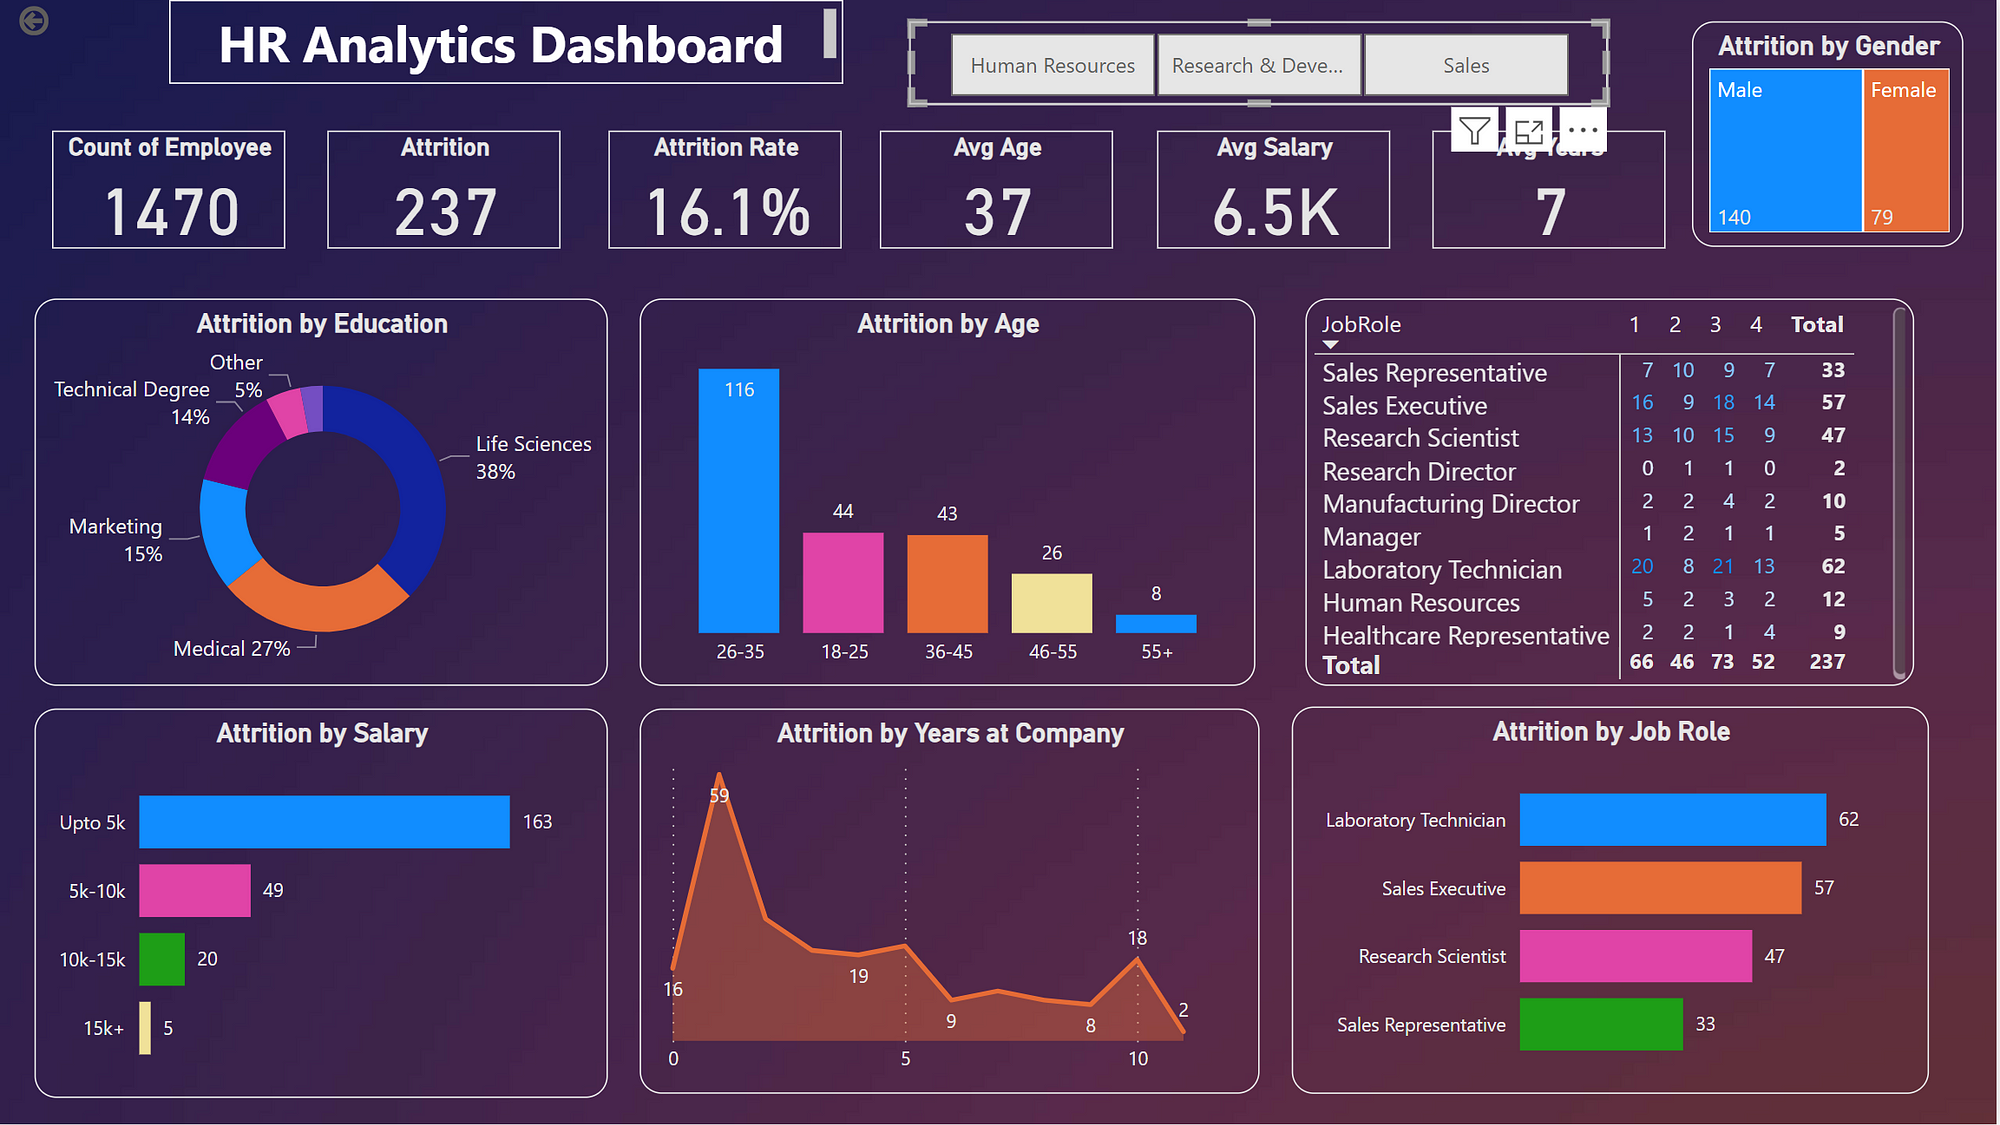

This screenshot's page, from the dashboard's own definition file:
{"tool":"powerbi","page":{"name":"Page 1","canvas":[1280,720],"ordinal":0},"visuals":[{"type":"card","title":"Count of Employee","fields":{"Values":["CountNonNull(HR_Analytics.EmpID)"]},"box":[35.3,84,149.5,75.6],"z":0},{"type":"card","title":"Attrition","fields":{"Values":["Sum(HR_Analytics.AttritionCount)"]},"box":[211.7,84,149.5,75.6],"z":1000},{"type":"card","title":"Attrition Rate","fields":{"Values":["HR_Analytics.AttritionRate"]},"box":[391.4,84,149.5,75.6],"z":2000},{"type":"card","title":"Avg Age","fields":{"Values":["Avg(HR_Analytics.Age)"]},"box":[564.4,84,149.5,75.6],"z":3000},{"type":"actionButton","box":[10.1,0,100.8,26.9],"z":4000},{"type":"card","title":"Avg Salary","fields":{"Values":["Avg(HR_Analytics.MonthlyIncome)"]},"box":[742.5,84,149.5,75.6],"z":5000},{"type":"card","title":"Avg Years","fields":{"Values":["Avg(HR_Analytics.YearsAtCompany)"]},"box":[918.8,84,149.5,75.6],"z":6000},{"type":"donutChart","title":"Attrition by Education","fields":{"Y":["Sum(HR_Analytics.AttritionCount)"],"Category":["HR_Analytics.EducationField","HR_Analytics.YearsAtCompany"]},"box":[24.1,191.3,367.1,248],"z":7000},{"type":"columnChart","title":"Attrition by Age","fields":{"Category":["HR_Analytics.AgeGroup"],"Y":["Sum(HR_Analytics.AttritionCount)"]},"box":[411,191.3,394,248],"z":8000},{"type":"pivotTable","fields":{"Rows":["HR_Analytics.JobRole"],"Columns":["HR_Analytics.JobSatisfaction"],"Values":["Sum(HR_Analytics.AttritionCount)"]},"box":[837.6,191.3,389.8,248],"z":9000},{"type":"barChart","title":"Attrition by Salary","fields":{"Category":["HR_Analytics.SalarySlab"],"Y":["Sum(HR_Analytics.AttritionCount)"]},"box":[24.1,453.5,367.1,249.4],"z":10000},{"type":"barChart","title":"Attrition by Job Role","fields":{"Category":["HR_Analytics.JobRole"],"Y":["Sum(HR_Analytics.AttritionCount)"]},"box":[829.1,452.1,408.2,248],"z":11000},{"type":"areaChart","title":"Attrition by Years at Company","fields":{"Category":["HR_Analytics.YearsAtCompany"],"Y":["Sum(HR_Analytics.AttritionCount)"]},"box":[411,453.5,396.9,246.6],"z":12000},{"type":"treemap","title":"Attrition by Gender","fields":{"Group":["HR_Analytics.Gender"],"Values":["Sum(HR_Analytics.AttritionCount)"]},"box":[1085,14.1,174,144.3],"z":13000},{"type":"slicer","fields":{"Values":["HR_Analytics.Department"]},"box":[584.2,14.1,447,53.8],"z":14000},{"type":"textbox","box":[110.3,0,431.4,53.8],"z":15000}]}

Visuals, with their boxes in screenshot pixels (x1, y1, x2, y2), scaled from the page's 1280x720 canvas onto the 2000x1125 screenshot:
"Count of Employee" card: {"left": 55, "top": 131, "right": 289, "bottom": 249}
"Attrition" card: {"left": 331, "top": 131, "right": 564, "bottom": 249}
"Attrition Rate" card: {"left": 612, "top": 131, "right": 845, "bottom": 249}
"Avg Age" card: {"left": 882, "top": 131, "right": 1115, "bottom": 249}
actionButton: {"left": 16, "top": 0, "right": 173, "bottom": 42}
"Avg Salary" card: {"left": 1160, "top": 131, "right": 1394, "bottom": 249}
"Avg Years" card: {"left": 1436, "top": 131, "right": 1669, "bottom": 249}
"Attrition by Education" donutChart: {"left": 38, "top": 299, "right": 611, "bottom": 686}
"Attrition by Age" columnChart: {"left": 642, "top": 299, "right": 1258, "bottom": 686}
pivotTable - HR_Analytics.JobRole x HR_Analytics.JobSatisfaction: {"left": 1309, "top": 299, "right": 1918, "bottom": 686}
"Attrition by Salary" barChart: {"left": 38, "top": 709, "right": 611, "bottom": 1098}
"Attrition by Job Role" barChart: {"left": 1295, "top": 706, "right": 1933, "bottom": 1094}
"Attrition by Years at Company" areaChart: {"left": 642, "top": 709, "right": 1262, "bottom": 1094}
"Attrition by Gender" treemap: {"left": 1695, "top": 22, "right": 1967, "bottom": 248}
slicer - HR_Analytics.Department: {"left": 913, "top": 22, "right": 1611, "bottom": 106}
textbox: {"left": 172, "top": 0, "right": 846, "bottom": 84}
